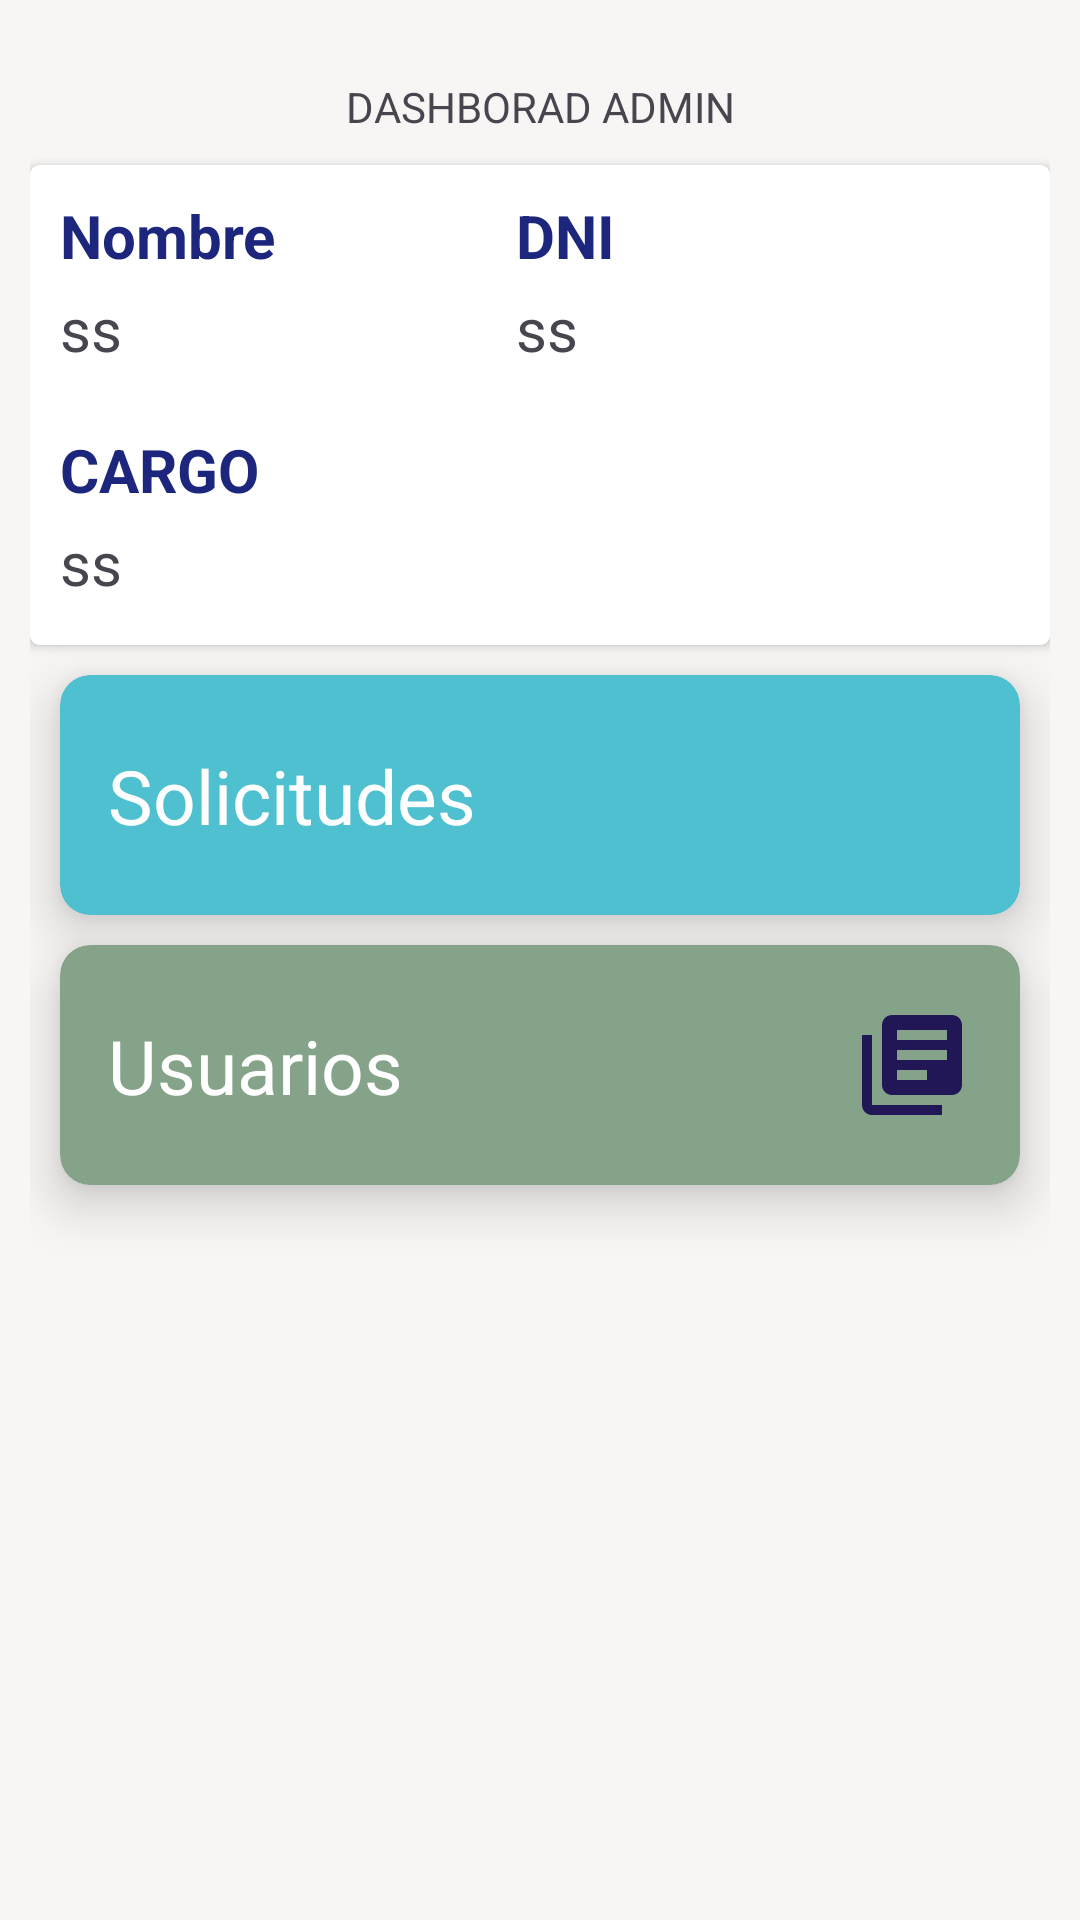

Named icons in this screenshot (1080px x 1920px) and their bounding boxes, bbox=(x1, y1, x2, y2):
library books: bbox=(862, 1015, 962, 1115)
